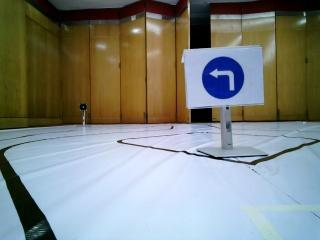left: (190, 52, 255, 102)
